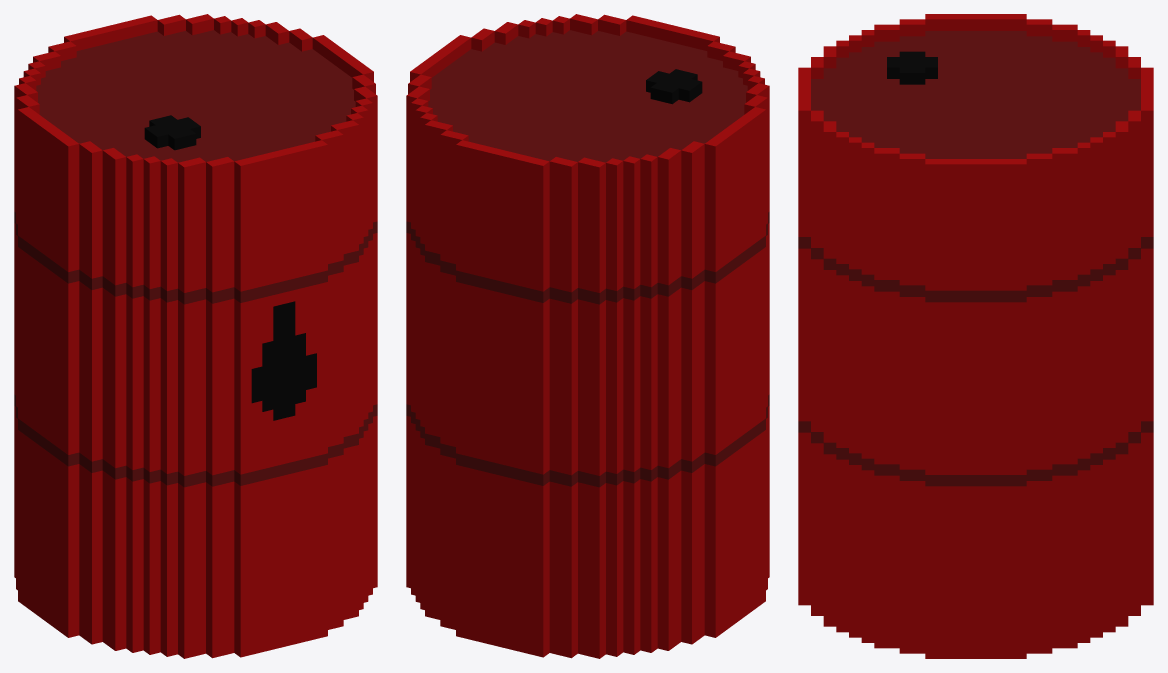
Rendered from бочка красная.obj.
3 renders of one model, left to right at view 1: azimuth 30°, elevation 25°; view 2: azimuth 150°, elevation 25°; view 3: azimuth 270°, elevation 25°, orthographic.
Size of the model in its own units: 2.8 by 4.3 by 2.8.
Materials: 1 (1 with a texture image).
